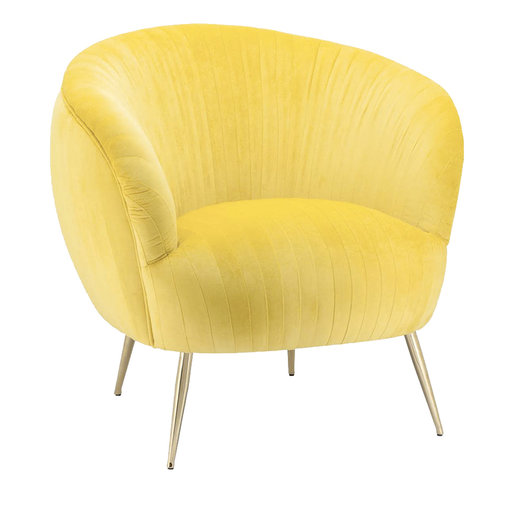chairs: (47, 23, 466, 470)
